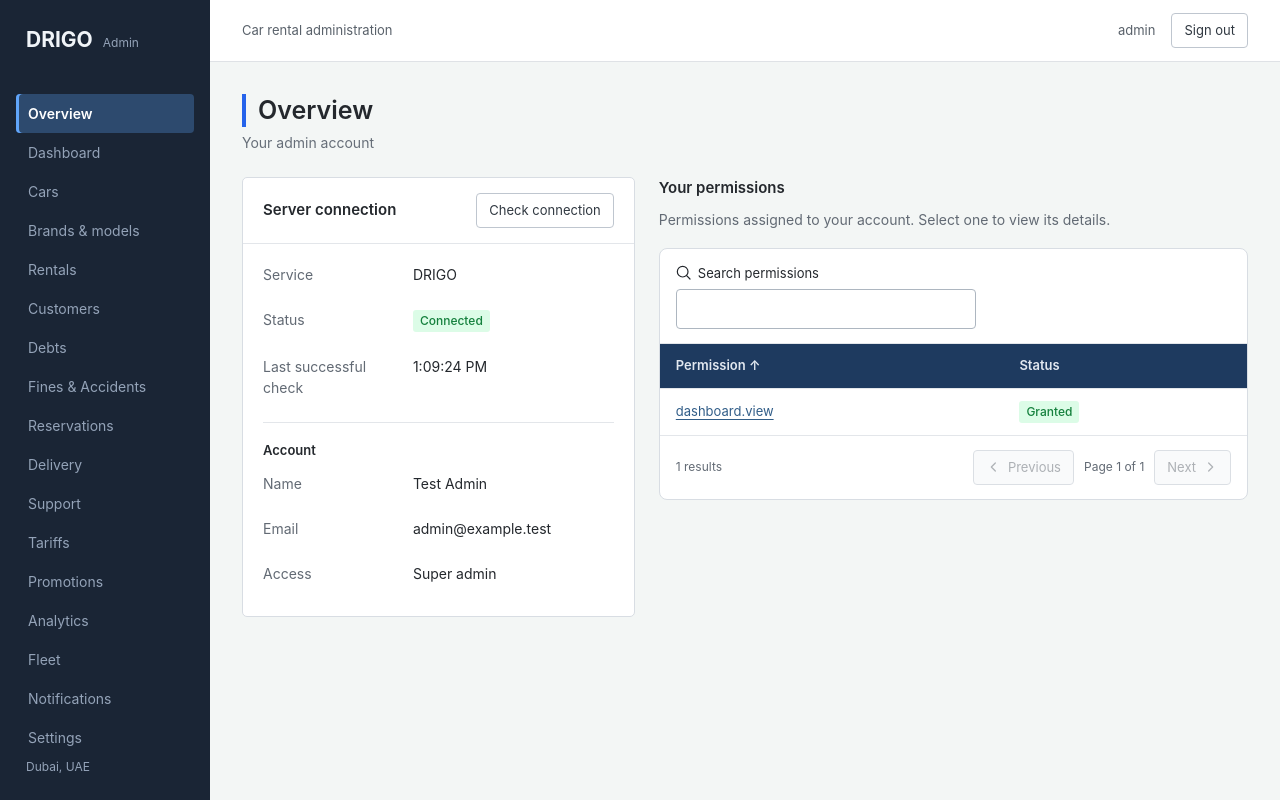
Test: cookie authentication UI › does not claim successful logout if the server rejects it, and allows retry
The image size is (1280, 800).
Expected: the heading "Overview" is shown, [242,94,1248,126]
Click the button "Sign out" at [1210, 31], box [1172,13,1248,48]
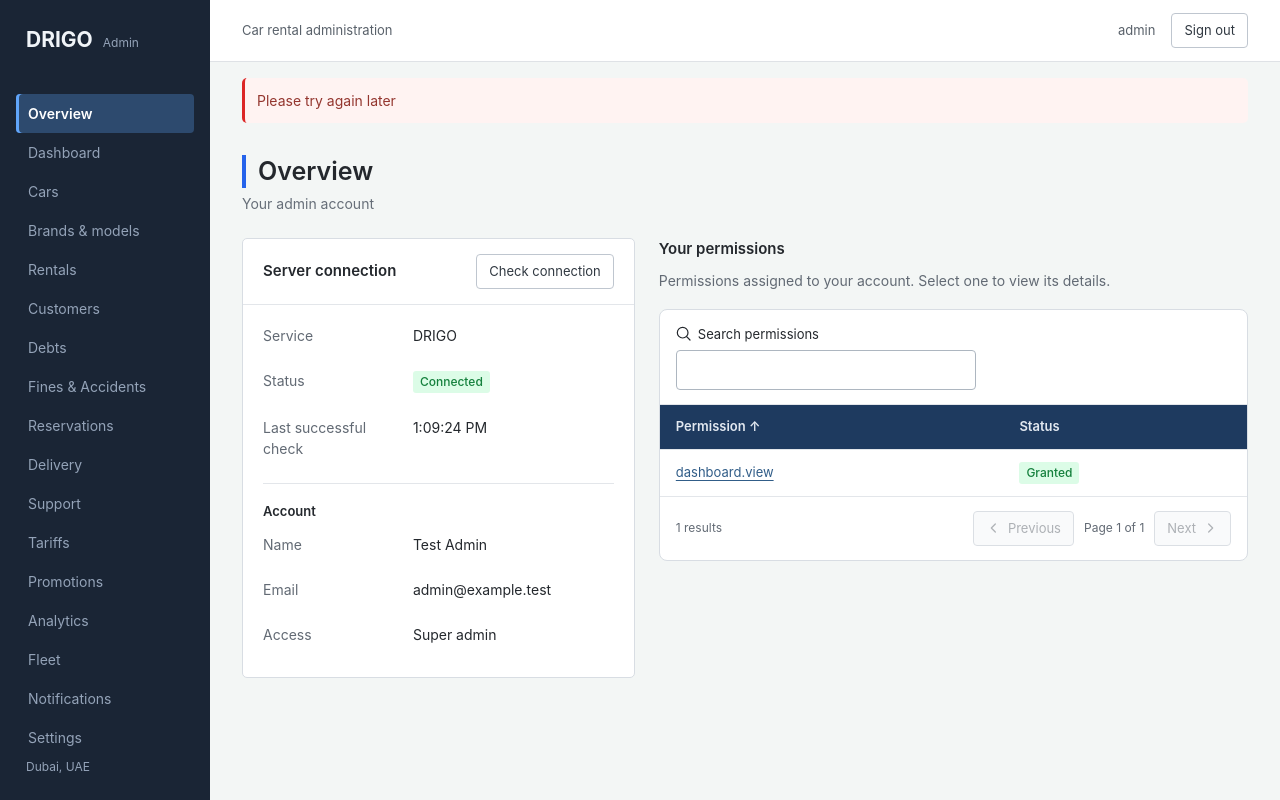
Expected: the heading "Overview" is shown, [242,155,1248,188]
Result: the message "Please try again later" is shown at [242,78,1248,123]
Click the button "Sign out" at [1210, 31], box [1172,13,1248,48]
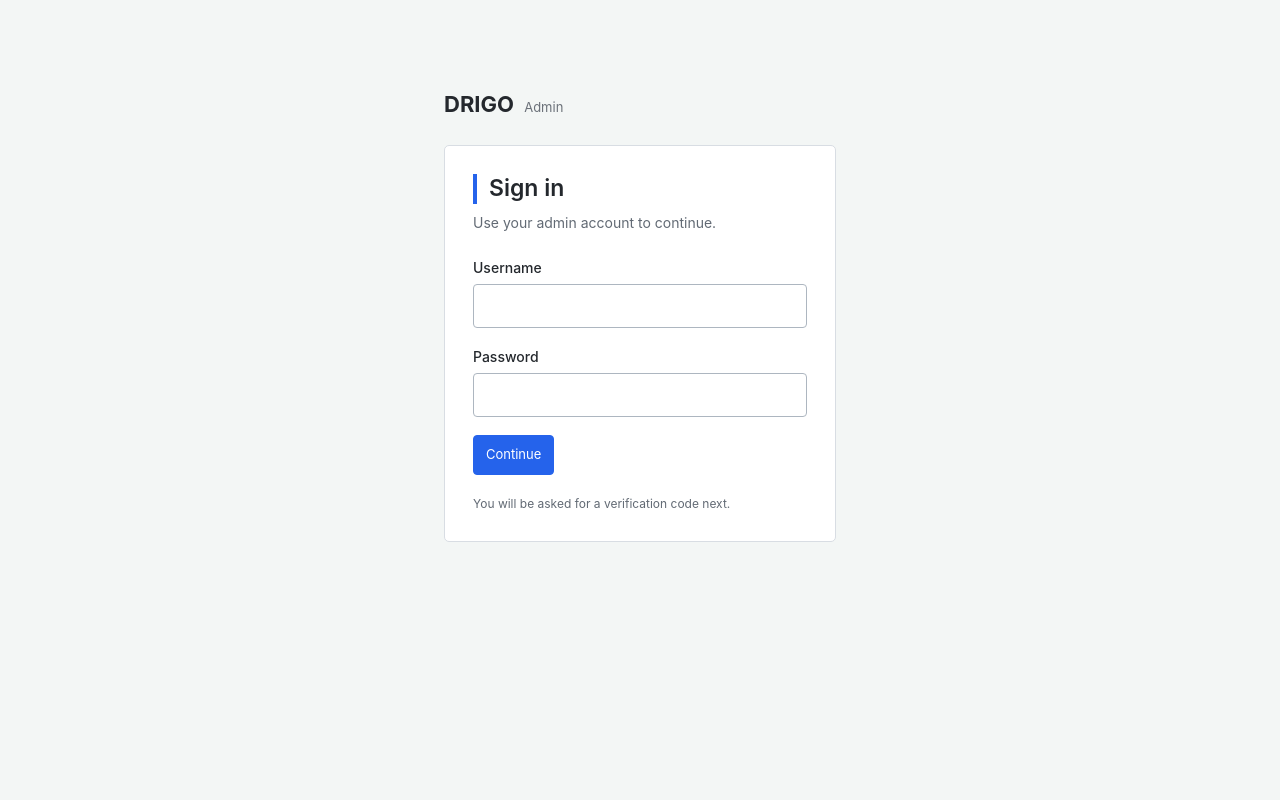
Result: the heading "Sign in" is shown at [473,174,807,204]
